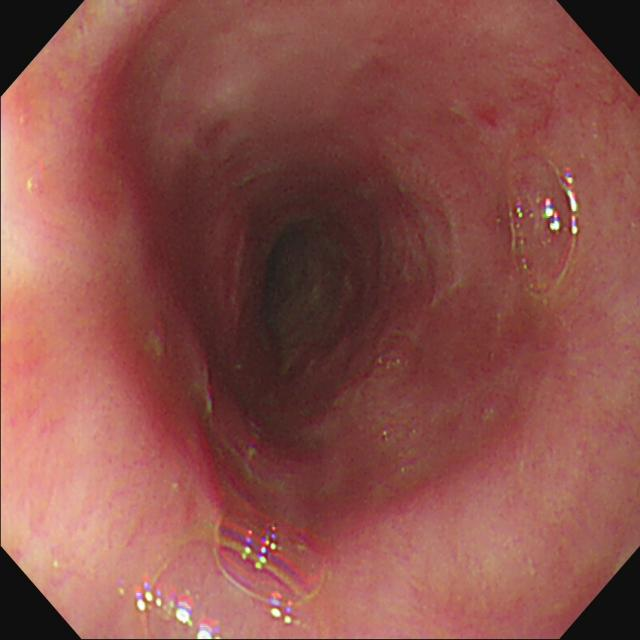E: (265, 223, 345, 346)
T: (136, 508, 329, 640), (508, 151, 581, 304)
U: (136, 578, 222, 640), (241, 520, 281, 574), (563, 166, 582, 236), (271, 591, 295, 625), (545, 197, 562, 234)
